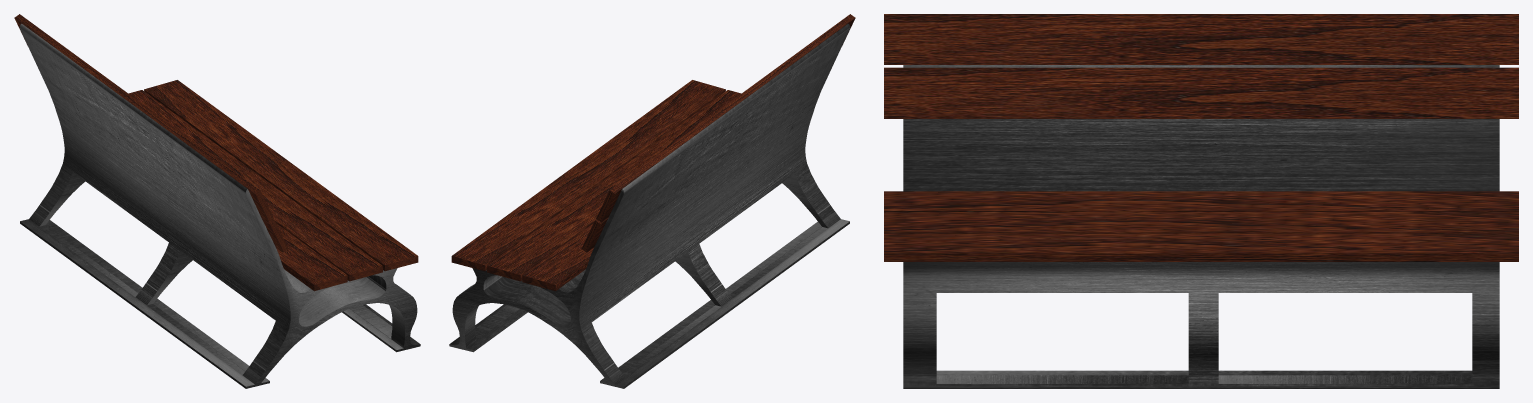
File: benk.fbx
3 views of the same model, side by side, from view 1: azimuth 30°, elevation 25°; view 2: azimuth 150°, elevation 25°; view 3: azimuth 270°, elevation 25° (orthographic). The views are drawn at different scales.
Visible parts, largest first — view 1: pCube14, pCube3, pCube2, pCube5, pCube1, pCube4; view 2: pCube14, pCube3, pCube2, pCube5, pCube1, pCube4; view 3: pCube14, pCube4, pCube5, pCube3, pCube2, pCube1.
Part boxes in pixels (left/top/right/bottom): pCube14: left=19, top=23, right=420, bottom=388; pCube3: left=144, top=80, right=418, bottom=271; pCube2: left=128, top=90, right=382, bottom=281; pCube5: left=14, top=14, right=273, bottom=222; pCube1: left=276, top=223, right=347, bottom=291; pCube4: left=261, top=217, right=288, bottom=252; pCube14: left=449, top=23, right=850, bottom=388; pCube3: left=451, top=80, right=725, bottom=271; pCube2: left=487, top=90, right=741, bottom=281; pCube5: left=596, top=14, right=855, bottom=222; pCube1: left=522, top=223, right=593, bottom=291; pCube4: left=581, top=217, right=608, bottom=252; pCube14: left=903, top=65, right=1499, bottom=388; pCube4: left=884, top=67, right=1518, bottom=118; pCube5: left=884, top=14, right=1518, bottom=64; pCube3: left=884, top=233, right=1518, bottom=261; pCube2: left=884, top=212, right=1518, bottom=233; pCube1: left=884, top=191, right=1518, bottom=211.
Bounding box in the file's own units: 7.78 × 8.61 × 18.55.
Materials: 2 (2 with a texture image).
